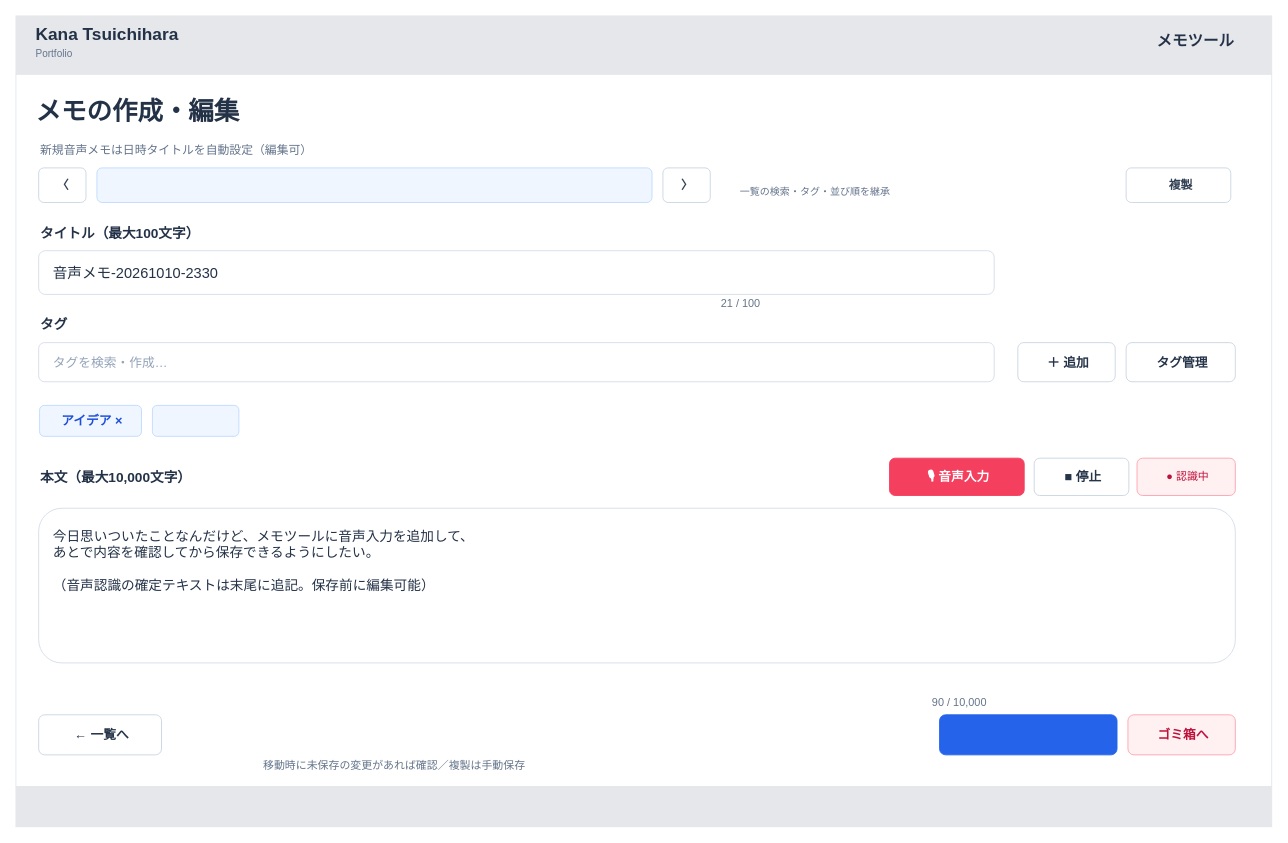
Some shapes in this 1288 by 843 pixel diagram are drawn without their labels. The shapes that lost their labels are listed below. From the top down, each one's box as (x1, y1, x2, y2) in pixels, then its label:
(96, 167, 652, 202): 2 / 8 件 ｜ タグ（あれば表示、なければ非表示）
(152, 404, 239, 436): 開発 ×
(939, 714, 1117, 755): 追加 / 更新
(15, 786, 1272, 827): Kana Tsuichihara Portfolio LEARNING BY BUILDING
